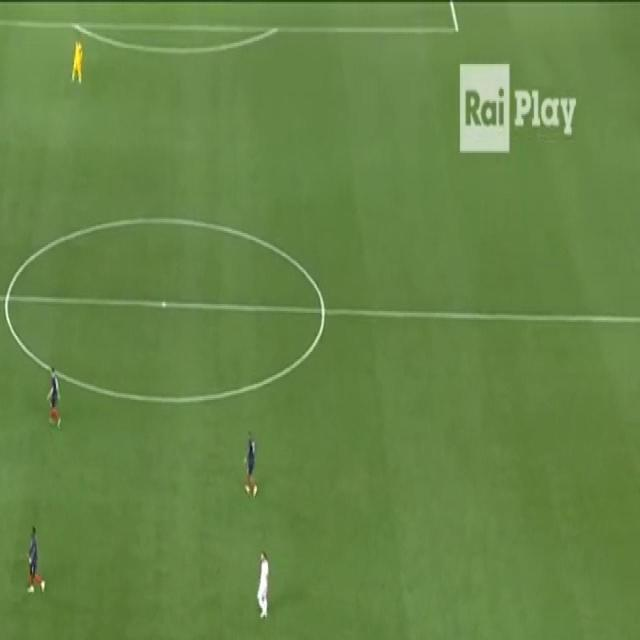player-white: (22, 519, 46, 599), (241, 426, 260, 505), (254, 546, 272, 622), (46, 362, 62, 432), (71, 31, 84, 90), (101, 638, 124, 640)
